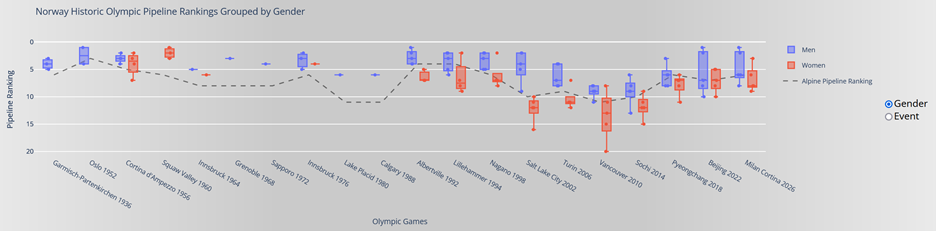

This screenshot's page, from the dashboard's own definition file:
{"tool":"tableau","page":{"name":"Dashboard 1","canvas":[1000,1000],"units":"permille","ordinal":0},"visuals":[{"type":"worksheet","title":"Sheet 1","mark":"Automatic","box":[2.1,4.2,888.5,991.5]},{"type":"filter","title":"Sheet 1","param":"[federated.146amrn0jlxjl911misc91clc58j].[none:Medal:ok]","box":[890.6,4.2,107.3,47.2]},{"type":"filter","title":"Sheet 1","param":"[federated.146amrn0jlxjl911misc91clc58j].[none:USOC Master Competition Set Name:","box":[890.6,51.4,107.3,150.1]},{"type":"legend","title":"Sheet 1","param":"[federated.146amrn0jlxjl911misc91clc58j].[cnt:Medal:qk]","box":[890.6,201.5,107.3,43]},{"type":"filter","title":"Sheet 1","param":"[federated.146amrn0jlxjl911misc91clc58j].[none:Event Gender:nk]","box":[890.6,244.4,107.3,64.2]},{"type":"filter","title":"Sheet 1","param":"[federated.146amrn0jlxjl911misc91clc58j].[none:Event Name Short:nk]","box":[890.6,308.6,107.3,121.4]}]}

Visuals, with their boxes on the dashboard's canvas, which has no fixed pixel size, in thousandths of its width and height (x1, y1, x2, y2). These are canvas units, not pixel positions in the 936x231 screenshot, which may show the page scaled, cropped or inside an application window:
"Sheet 1" worksheet: box=[2, 4, 891, 996]
"Sheet 1" filter: box=[891, 4, 998, 51]
"Sheet 1" filter: box=[891, 51, 998, 202]
"Sheet 1" legend: box=[891, 202, 998, 244]
"Sheet 1" filter: box=[891, 244, 998, 309]
"Sheet 1" filter: box=[891, 309, 998, 430]
